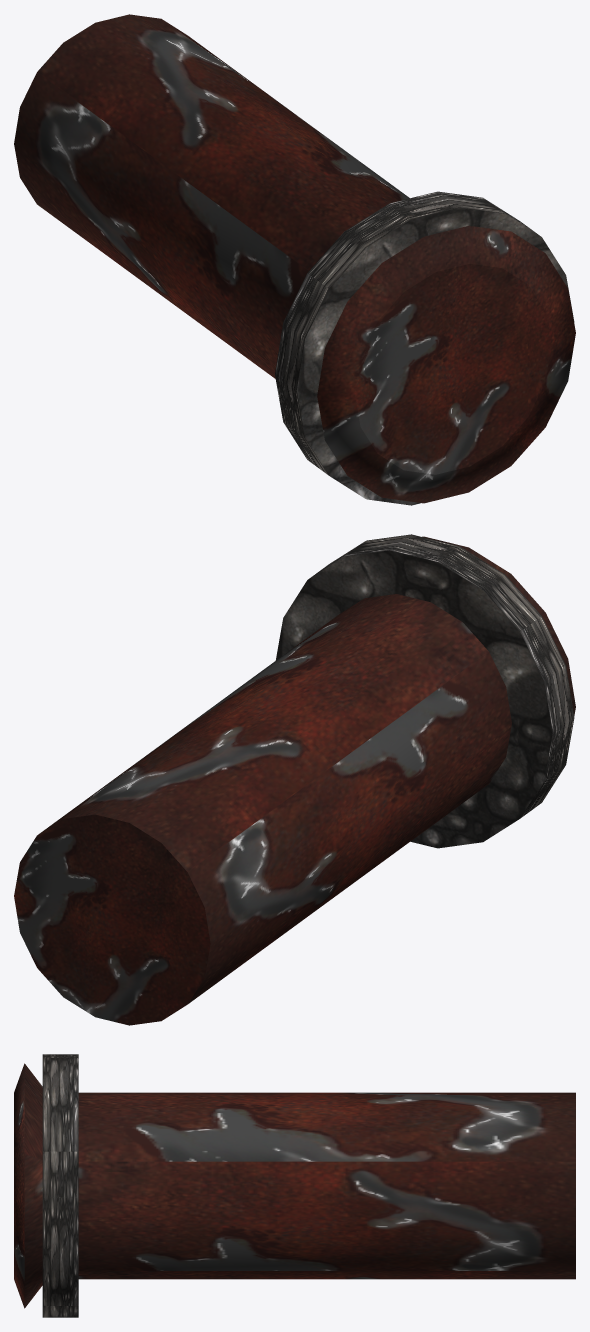
Rendered from Piston.FBX.
3 views of the same model, one above another, from view 1: azimuth 30°, elevation 25°; view 2: azimuth 150°, elevation 25°; view 3: azimuth 270°, elevation 25° (orthographic). The views are drawn at different scales.
Visible parts, largest first — view 1: Cylinder01, Cylinder02; view 2: Cylinder01, Cylinder02; view 3: Cylinder01, Cylinder02.
Boxes of the visible parts, x1,y1,x2,y2 form: Cylinder01: (14,14,575,503); Cylinder02: (275,191,574,505); Cylinder01: (14,536,575,1025); Cylinder02: (275,534,574,848); Cylinder01: (14,1063,575,1308); Cylinder02: (42,1054,78,1317).
Bounding box in the file's own units: 141 × 139 × 300.
2 materials, 2 textured.
